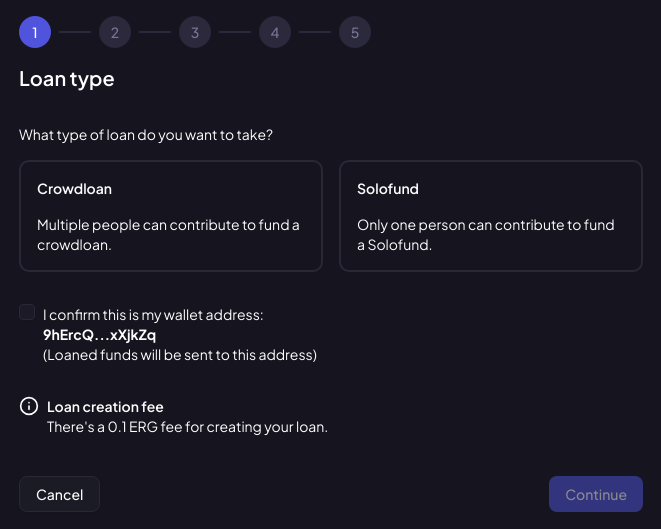
it: LoanStepper › Step 1 - Loan Type Selection › should enable Continue button when loan type and wallet confirmed
// Select Solofund
Click the text "Solofund" at x=388, y=188, box [357,179,419,197]
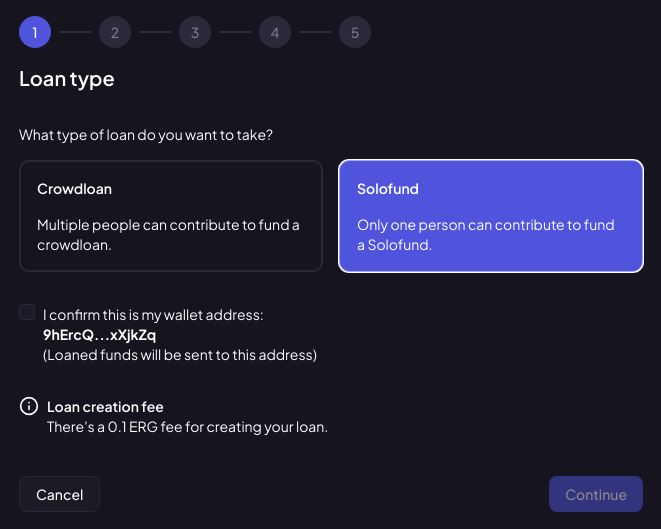
// Confirm wallet
Click the checkbox at x=27, y=312, box [19,304,35,320]
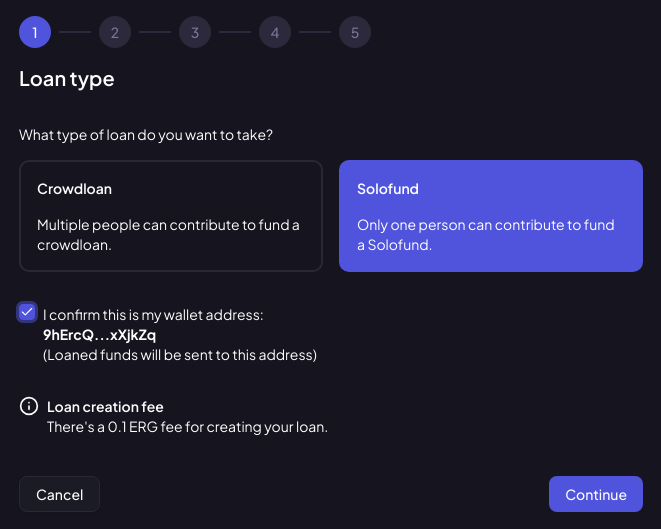
Check: the button "Continue" is enabled, box [549,476,643,512]
